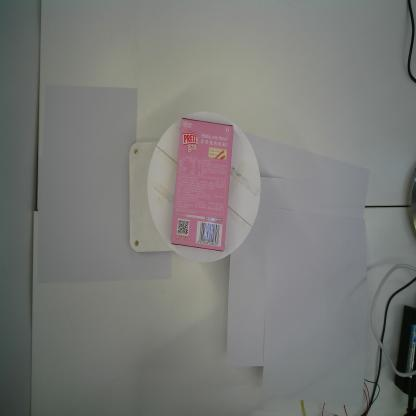Dessert: (170, 116, 234, 252)
